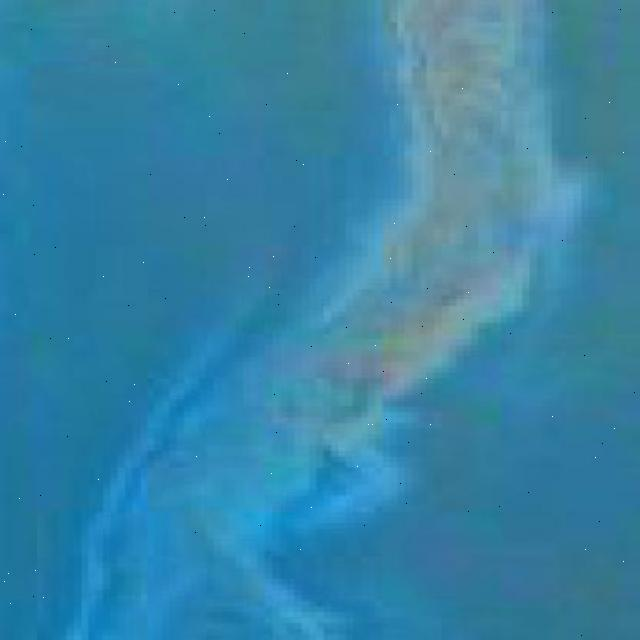sheen: (79, 6, 581, 625)
